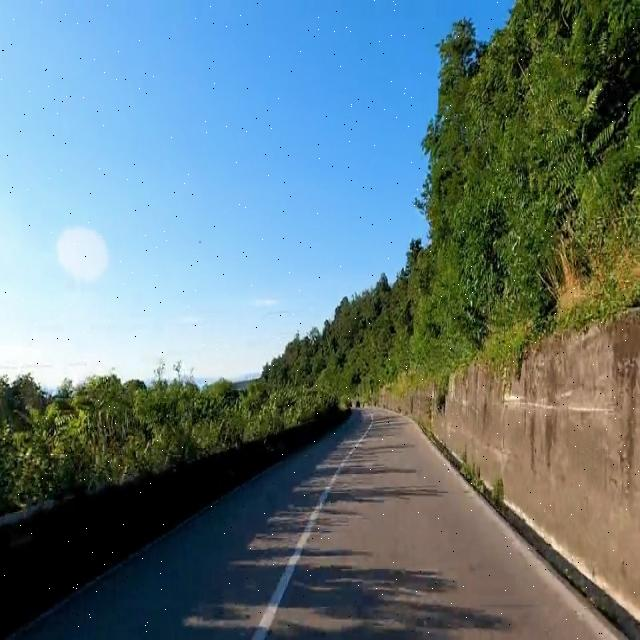lane: (251, 414, 373, 639)
road: (17, 408, 617, 638)
